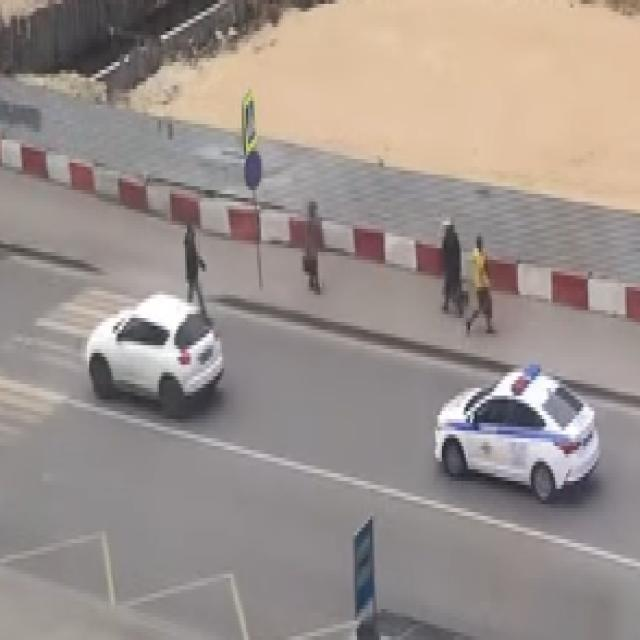non emergency car: (87, 290, 226, 422)
police car: (434, 364, 602, 503)
